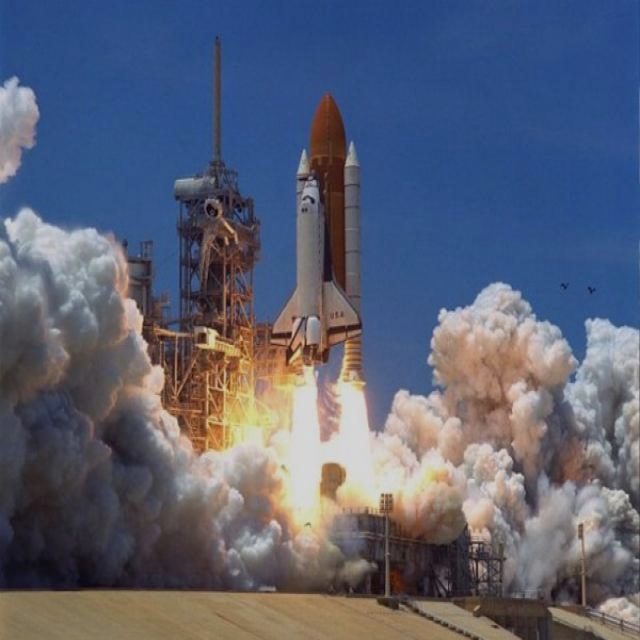rocket: (266, 168, 364, 368)
